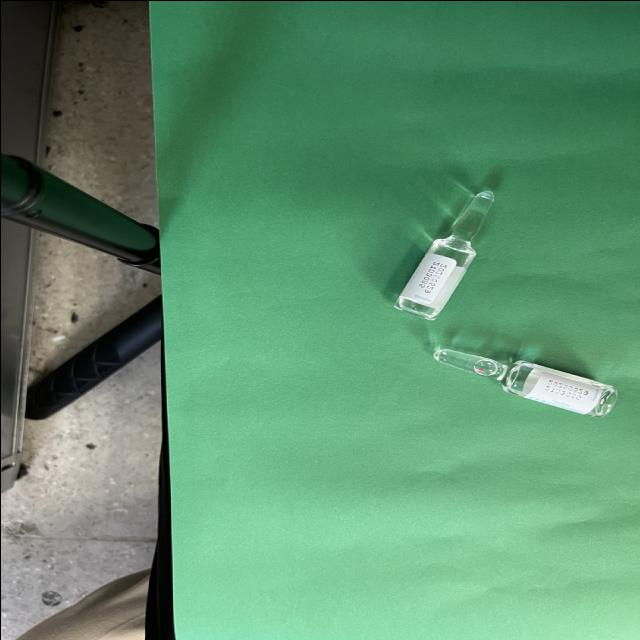Ampoules: (393, 190, 493, 319), (433, 348, 616, 415)
